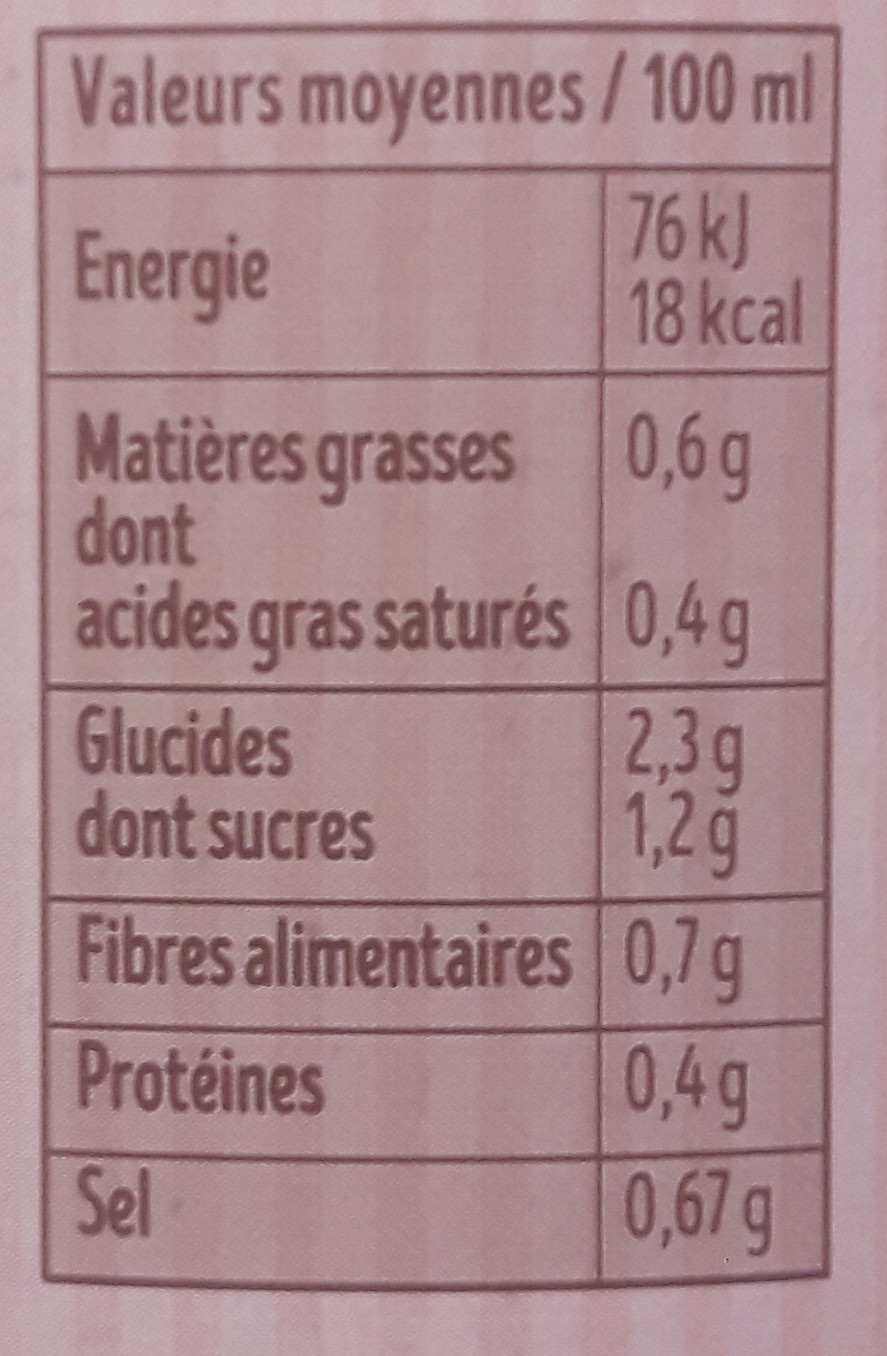column: (72, 224, 574, 1246), (618, 190, 806, 1259)
table: (28, 25, 829, 1298)
